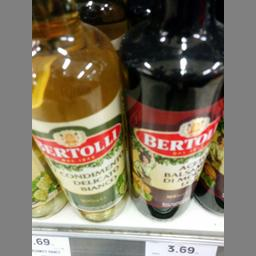vinegar: (30, 0, 129, 221), (121, 26, 222, 222)
